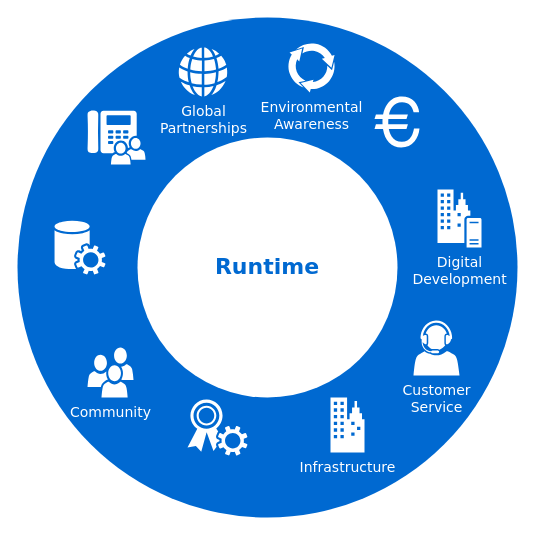
The diagram is 534 pixels wide and 534 high, and some of its shapes have lost their labels. Here are the shapes that lost their labels. From the top down, the centre of each, then its label:
At [116,137]: "Response Group".
At [396,121]: "Finance".
At [79,247]: "Central Management Service".
At [217,427]: "Technology Certificates".
